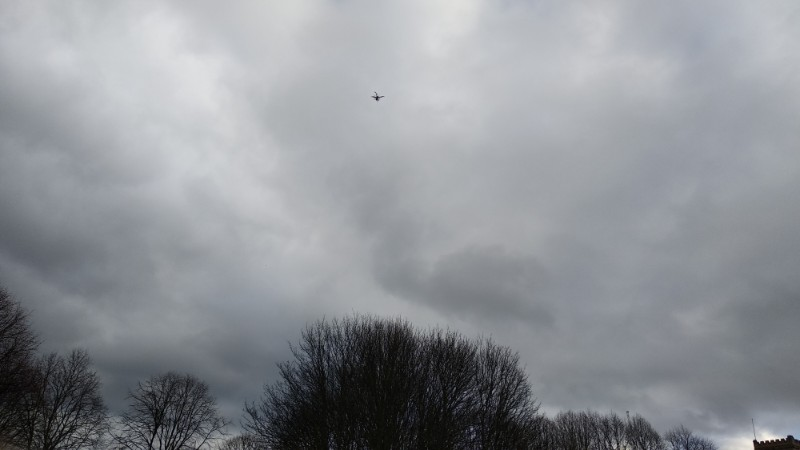drone: (373, 91, 384, 102)
